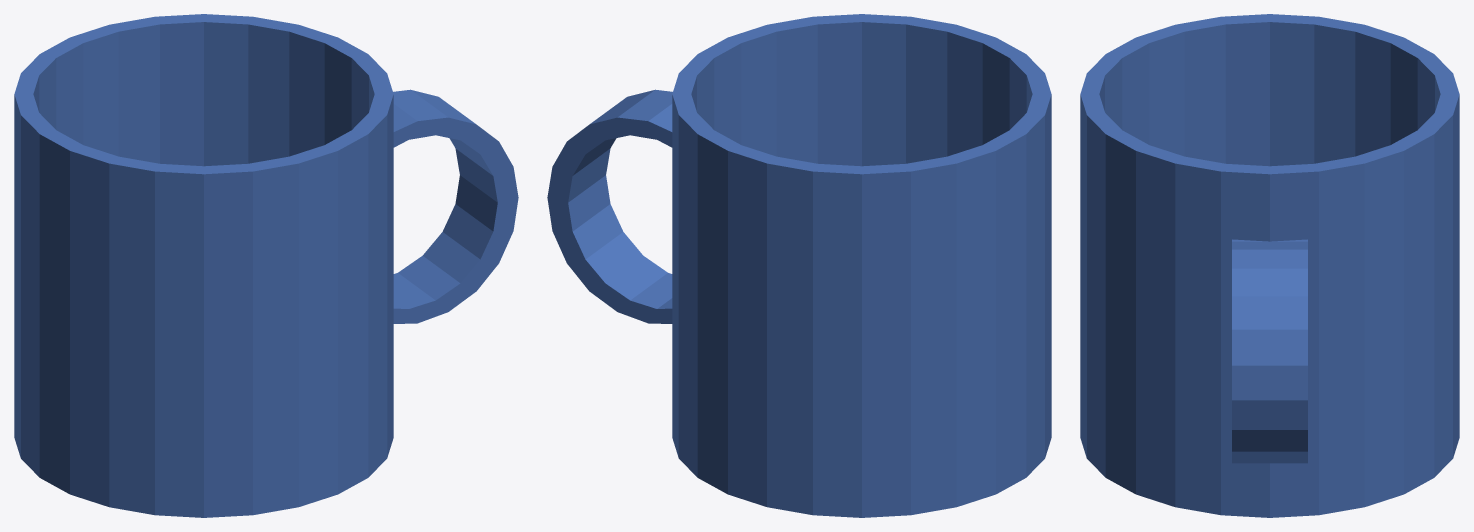
3 renders of one model, left to right at view 1: azimuth 30°, elevation 25°; view 2: azimuth 150°, elevation 25°; view 3: azimuth 270°, elevation 25°, orthographic.
Parts seen in each view (by area): view 1: mesh1_mesh1-geometry; view 2: mesh1_mesh1-geometry; view 3: mesh1_mesh1-geometry.
Boxes of the visible parts, x1,y1,x2,y2 form: mesh1_mesh1-geometry: [14, 14, 518, 517]; mesh1_mesh1-geometry: [547, 14, 1051, 517]; mesh1_mesh1-geometry: [1080, 14, 1459, 517].
Size of the model in its own units: 0.7035 by 0.5025 by 0.5025.
